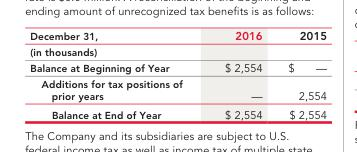table: (29, 28, 325, 120)
table column: (29, 28, 202, 120), (202, 28, 274, 120), (274, 28, 325, 120)
table column header: (29, 28, 325, 44)
table projected row header: (29, 44, 325, 59)
table row: (29, 75, 325, 104), (29, 28, 325, 44), (29, 59, 325, 75), (29, 104, 325, 120), (29, 44, 325, 59)
